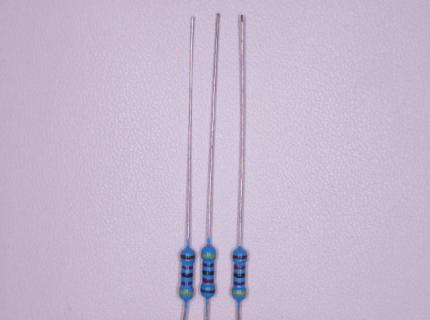Black band: (181, 272, 193, 277), (202, 271, 214, 275), (181, 281, 192, 285)
Brown band: (180, 254, 195, 260), (200, 289, 215, 294), (233, 255, 248, 259), (234, 273, 245, 278)
Red band: (234, 265, 246, 270), (182, 265, 193, 270), (202, 279, 214, 283)
Violet band: (233, 281, 245, 286), (202, 263, 214, 267)
Yellow band: (201, 253, 216, 258), (179, 290, 194, 295), (232, 290, 247, 295)
